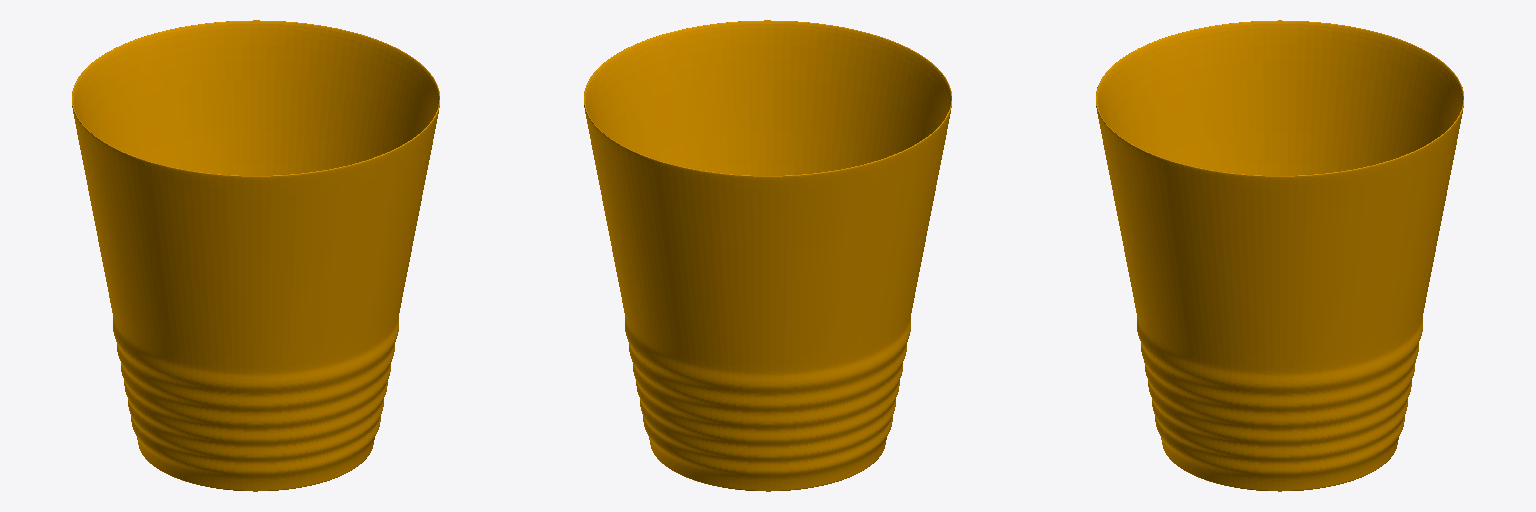
URDF robot description (cola):
<?xml version="1.0" encoding="utf-8"?>

<robot name="cola">
  <link name="cola">
    <visual>
      <geometry>
        <mesh filename="../meshes/glass.stl" scale="1 1 1"/>
      </geometry>
    </visual>
    <collision>
      <geometry>
        <mesh filename="../meshes/glass.stl" scale="1 1 1"/>
      </geometry>
    </collision>
    <inertial>
      <mass value="0.2"/>
<!--      <origin rpy="0 0 0" xyz="0 0 0.1255"/>-->
<!--      <inertia ixx="0.000951270861568" ixy="0" ixz="0" iyy="0.000951270861568" iyz="0" izz="0.000374272"/>-->
    </inertial>
  </link>
<!--  <link-->
<!--    name="imu_link">-->
<!--  </link>-->
<!--  <joint-->
<!--    name="imu_joint"-->
<!--    type="revolute">-->
<!--    <origin-->
<!--      xyz="0 0 0"-->
<!--      rpy="0 0 0" />-->
<!--    <parent-->
<!--      link="cola" />-->
<!--    <child-->
<!--      link="imu_link" />-->
<!--    <axis-->
<!--      xyz="0 0 1" />-->
<!--  </joint>-->
</robot>

--- Render facts (derived) ---
Views: 3 orthographic renders of the robot side by side, from view 1: azimuth 30°, elevation 25°; view 2: azimuth 150°, elevation 25°; view 3: azimuth 270°, elevation 25°.
Robot: cola — 1 links, 0 joints (none); root link cola; default pose: all joints at 0.
Visible links, largest first — view 1: cola; view 2: cola; view 3: cola.
Link boxes in pixels (x1,y1,x2,y2): cola: [72, 20, 439, 491]; cola: [584, 20, 951, 491]; cola: [1096, 20, 1463, 491].
Bounding box of the posed robot: 0.0633 × 0.0633 × 0.0654 m (x, y, z).
1 mesh visuals loaded from 1 distinct referenced files (1 binary STL).